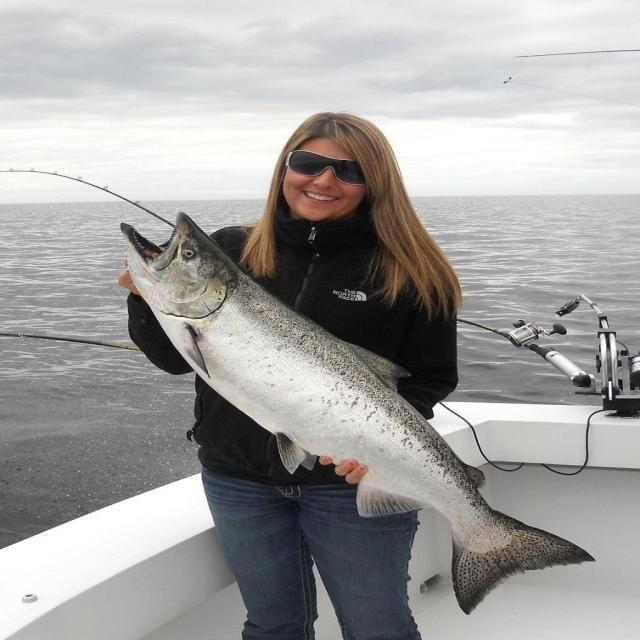Fish: (121, 212, 592, 574)
